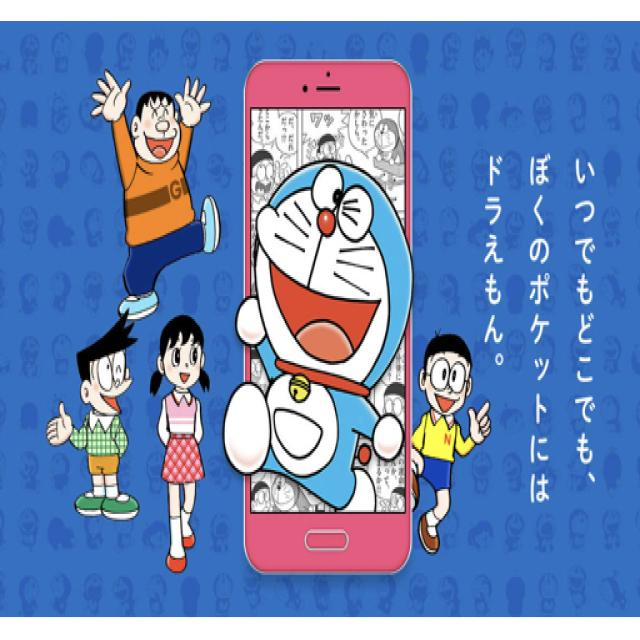doraemon: (228, 140, 410, 458)
jaian: (114, 73, 192, 187)
nobita: (414, 331, 478, 442)
shizuka: (144, 304, 220, 422)
suneo: (65, 309, 141, 442)
